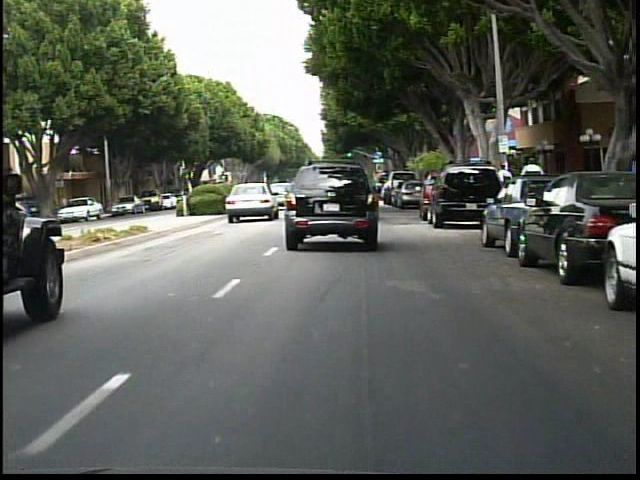person: (517, 154, 545, 217), (492, 161, 515, 213), (56, 191, 75, 223)
